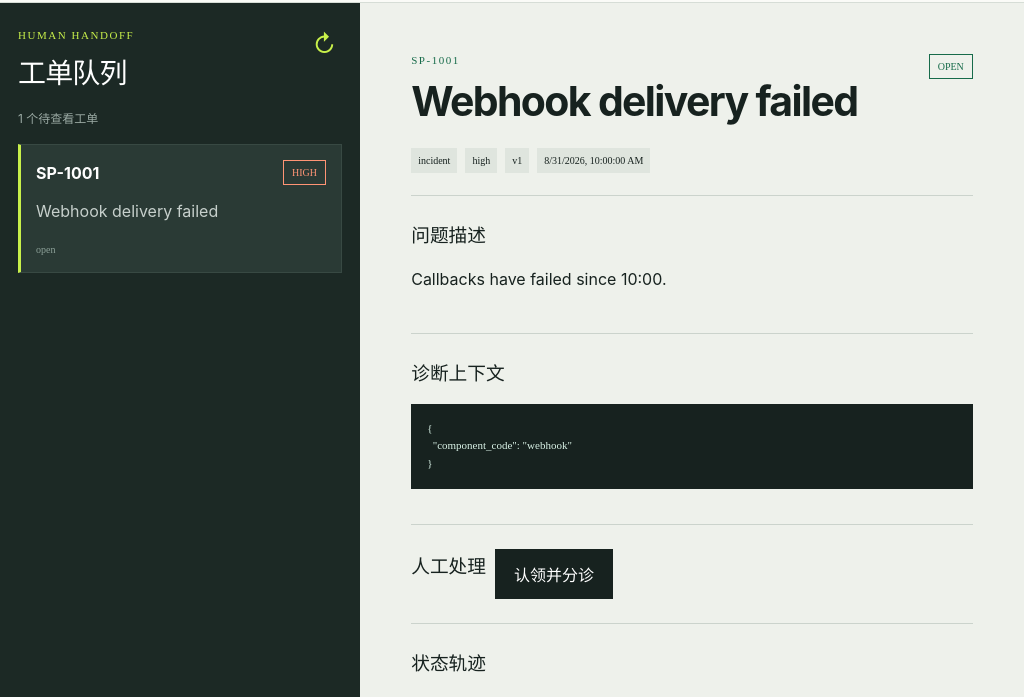
Test: SupportPilot console › lets a support agent claim an open handoff ticket
This screenshot has width=1024, height=697.
Expected: the heading "Webhook delivery failed" is shown, [411,76,857,126]
Click the button "认领并分诊" at [554, 574], box [495,549,613,599]
(page scrolled)
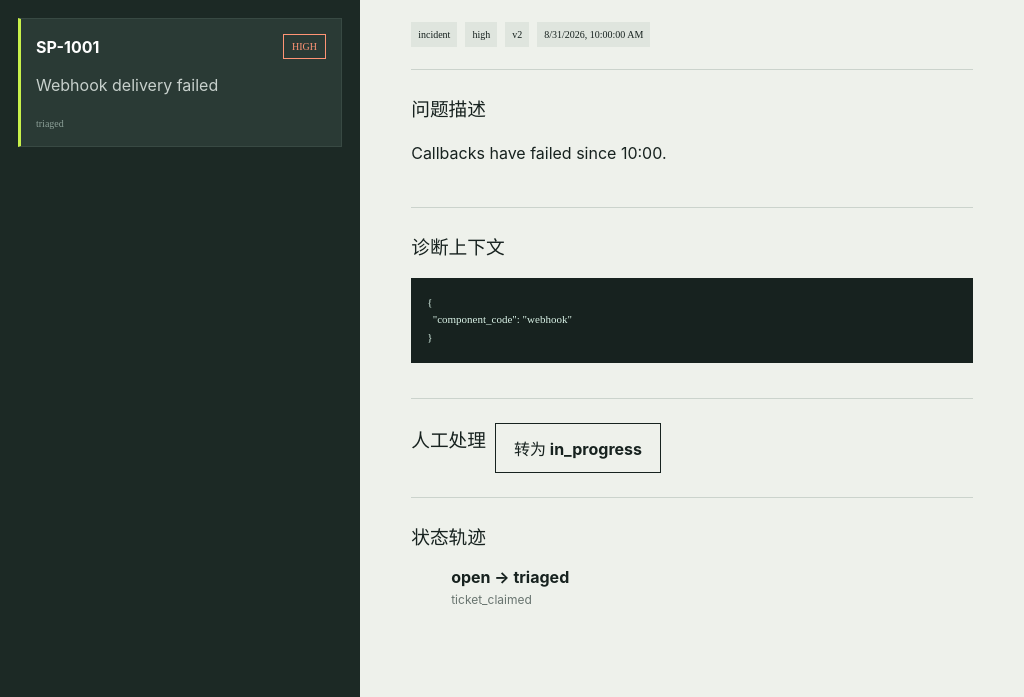
Result: the text "open → triaged" is shown at [451,567,569,587]
